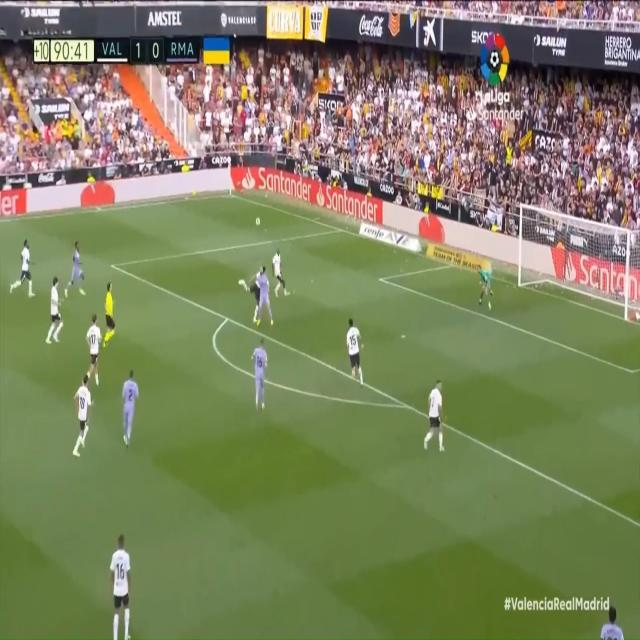ball: (253, 214, 262, 231)
goalkeeper: (474, 260, 493, 315)
player: (106, 529, 137, 640), (422, 375, 449, 457), (72, 372, 95, 466), (7, 236, 36, 304), (119, 363, 140, 454), (239, 256, 265, 325), (64, 233, 86, 304), (590, 599, 628, 640), (45, 276, 64, 353), (346, 314, 365, 390), (251, 337, 269, 417), (85, 313, 102, 388), (259, 263, 274, 328), (271, 248, 287, 298)
referee: (100, 280, 116, 357)
